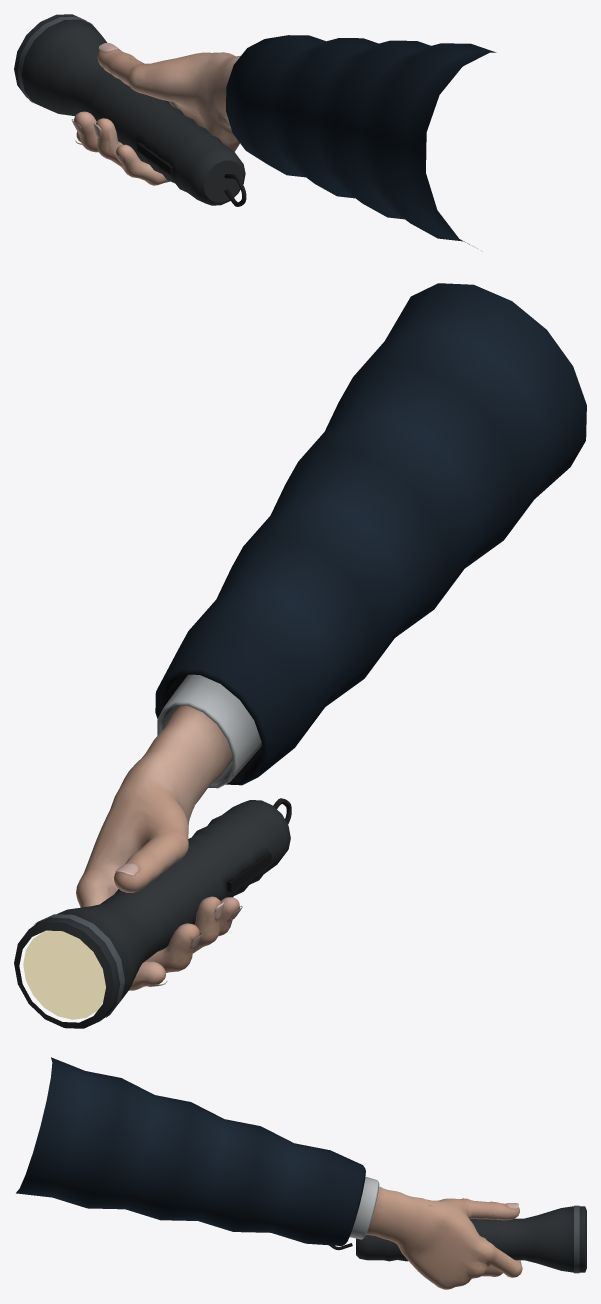
Rendered from torch_R.glb.
3 renders of one model, top to bottom at view 1: azimuth 30°, elevation 25°; view 2: azimuth 150°, elevation 25°; view 3: azimuth 270°, elevation 25°, orthographic. The views are drawn at different scales.
Visible parts, largest first — view 1: hand_torch_R_m0, hand_torch_R_m1; view 2: hand_torch_R_m0, hand_torch_R_m1, hand_torch_R_m3; view 3: hand_torch_R_m0, hand_torch_R_m1.
Boxes of the visible parts, x1=… form: hand_torch_R_m0: x1=71, y1=35, x2=496, y2=251; hand_torch_R_m1: x1=14, y1=14, x2=246, y2=206; hand_torch_R_m0: x1=76, y1=283, x2=586, y2=990; hand_torch_R_m1: x1=14, y1=798, x2=291, y2=1028; hand_torch_R_m3: x1=23, y1=930, x2=105, y2=1019; hand_torch_R_m0: x1=16, y1=1057, x2=522, y2=1289; hand_torch_R_m1: x1=329, y1=1205, x2=586, y2=1273.
Bounding box in the file's own units: 0.1506 × 0.2728 × 0.6197.
